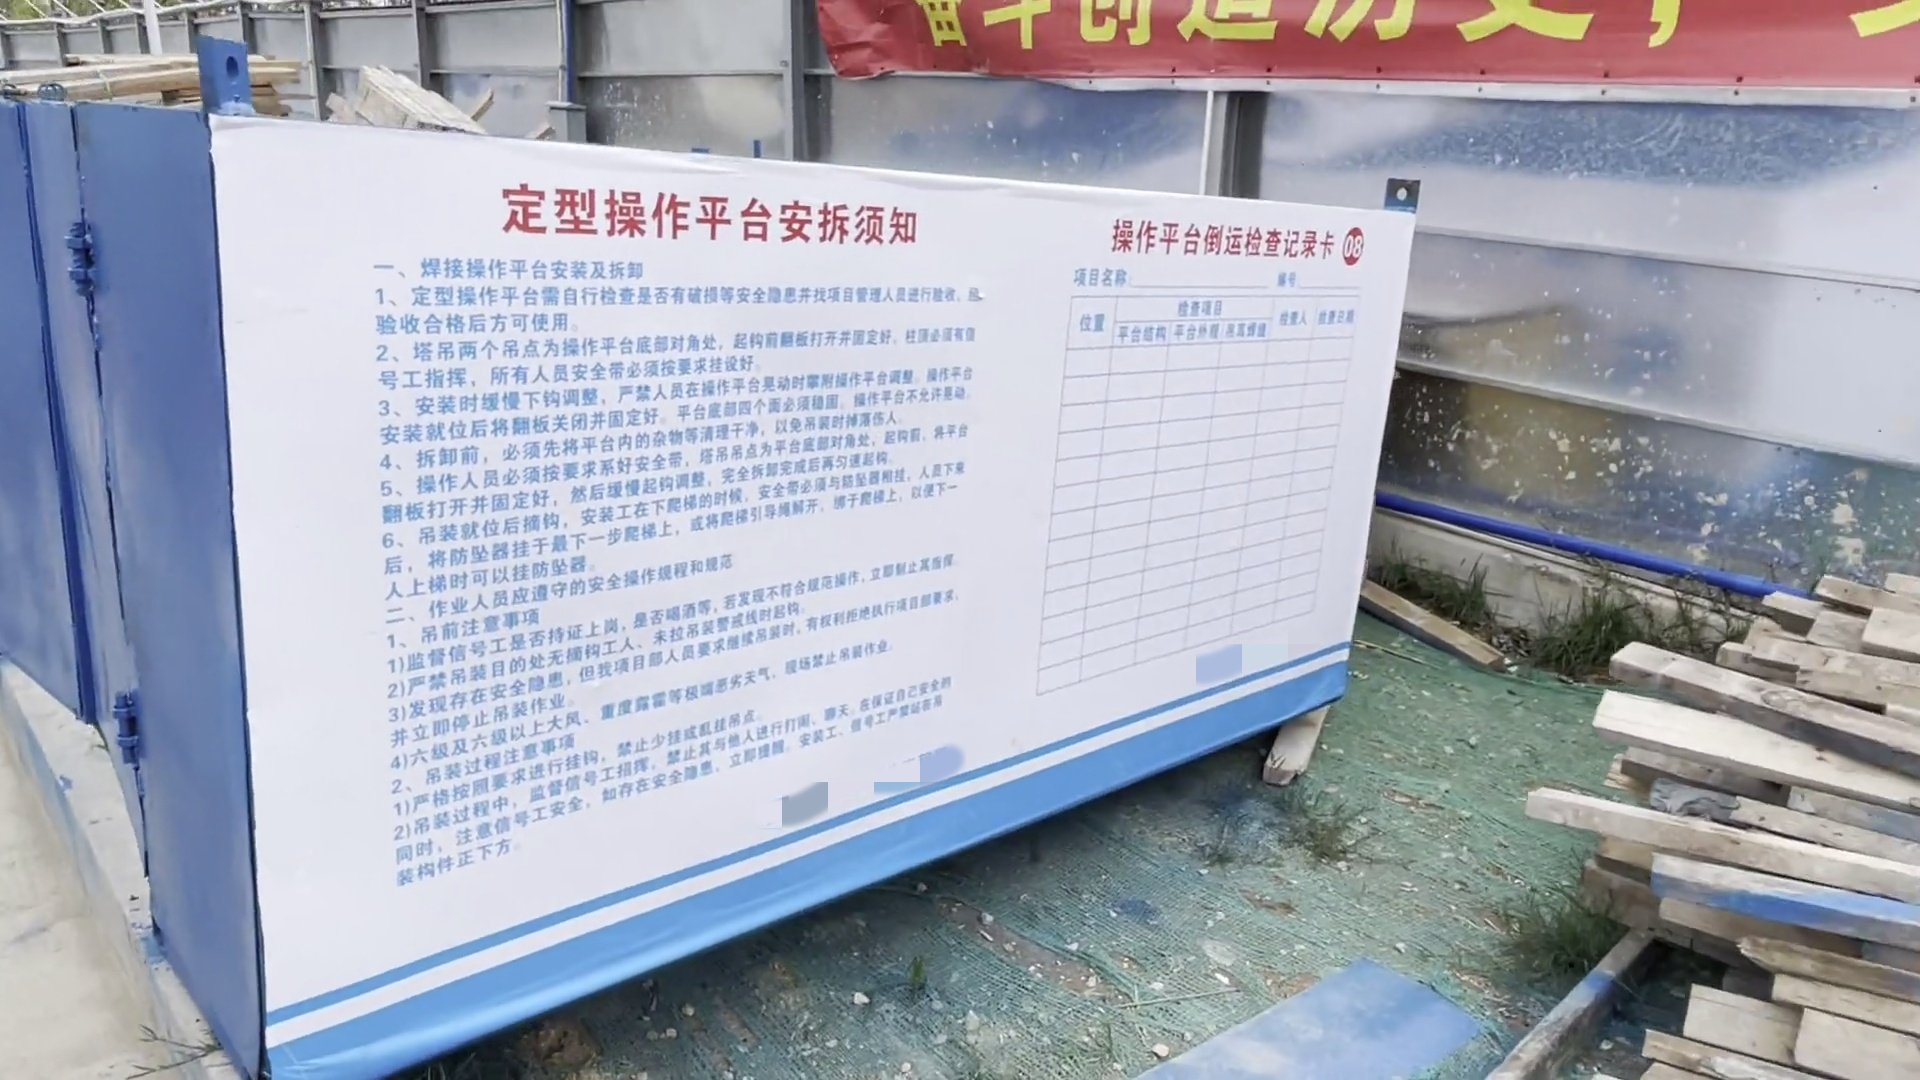slogan: (808, 1, 1920, 100)
wood: (1577, 530, 1915, 1080)
